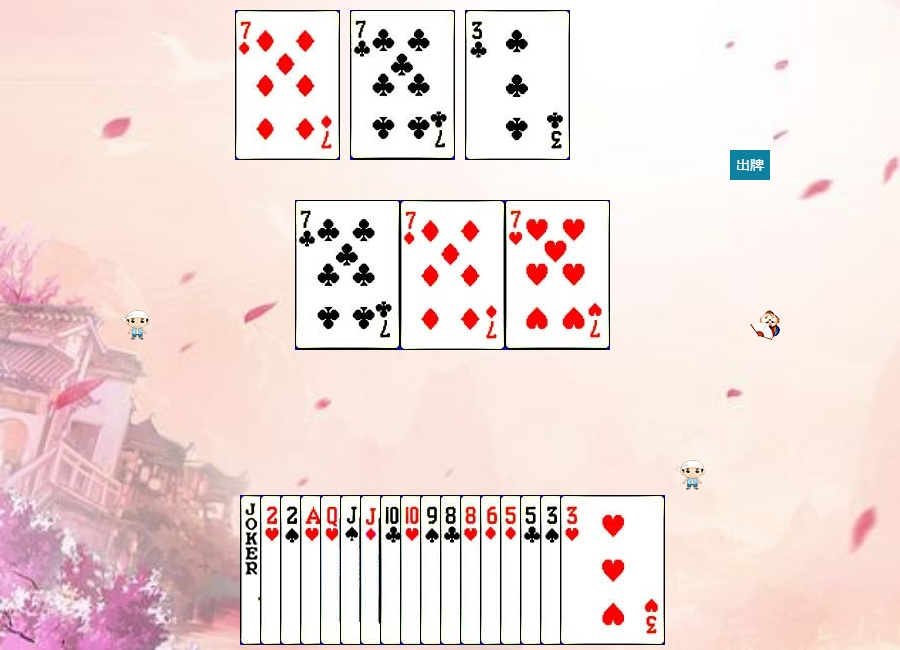10~2: (380, 495, 485, 645)
10~3: (400, 495, 505, 645)
11~1: (360, 495, 465, 645)
11~4: (340, 495, 445, 645)
12~3: (320, 495, 425, 645)
14~3: (300, 495, 405, 645)
15~3: (260, 495, 365, 645)
15~4: (280, 495, 385, 645)
17~3: (240, 495, 345, 645)
3~2: (465, 10, 570, 160)
3~3: (560, 495, 665, 645)
3~4: (540, 495, 645, 645)
5~1: (500, 495, 605, 645)
5~2: (520, 495, 625, 645)
6~1: (480, 495, 585, 645)
7~1: (235, 10, 340, 160), (400, 200, 505, 350)
7~2: (350, 10, 455, 160), (295, 200, 400, 350)
7~3: (505, 200, 610, 350)
8~2: (440, 495, 545, 645)
8~3: (460, 495, 565, 645)
9~4: (420, 495, 525, 645)
